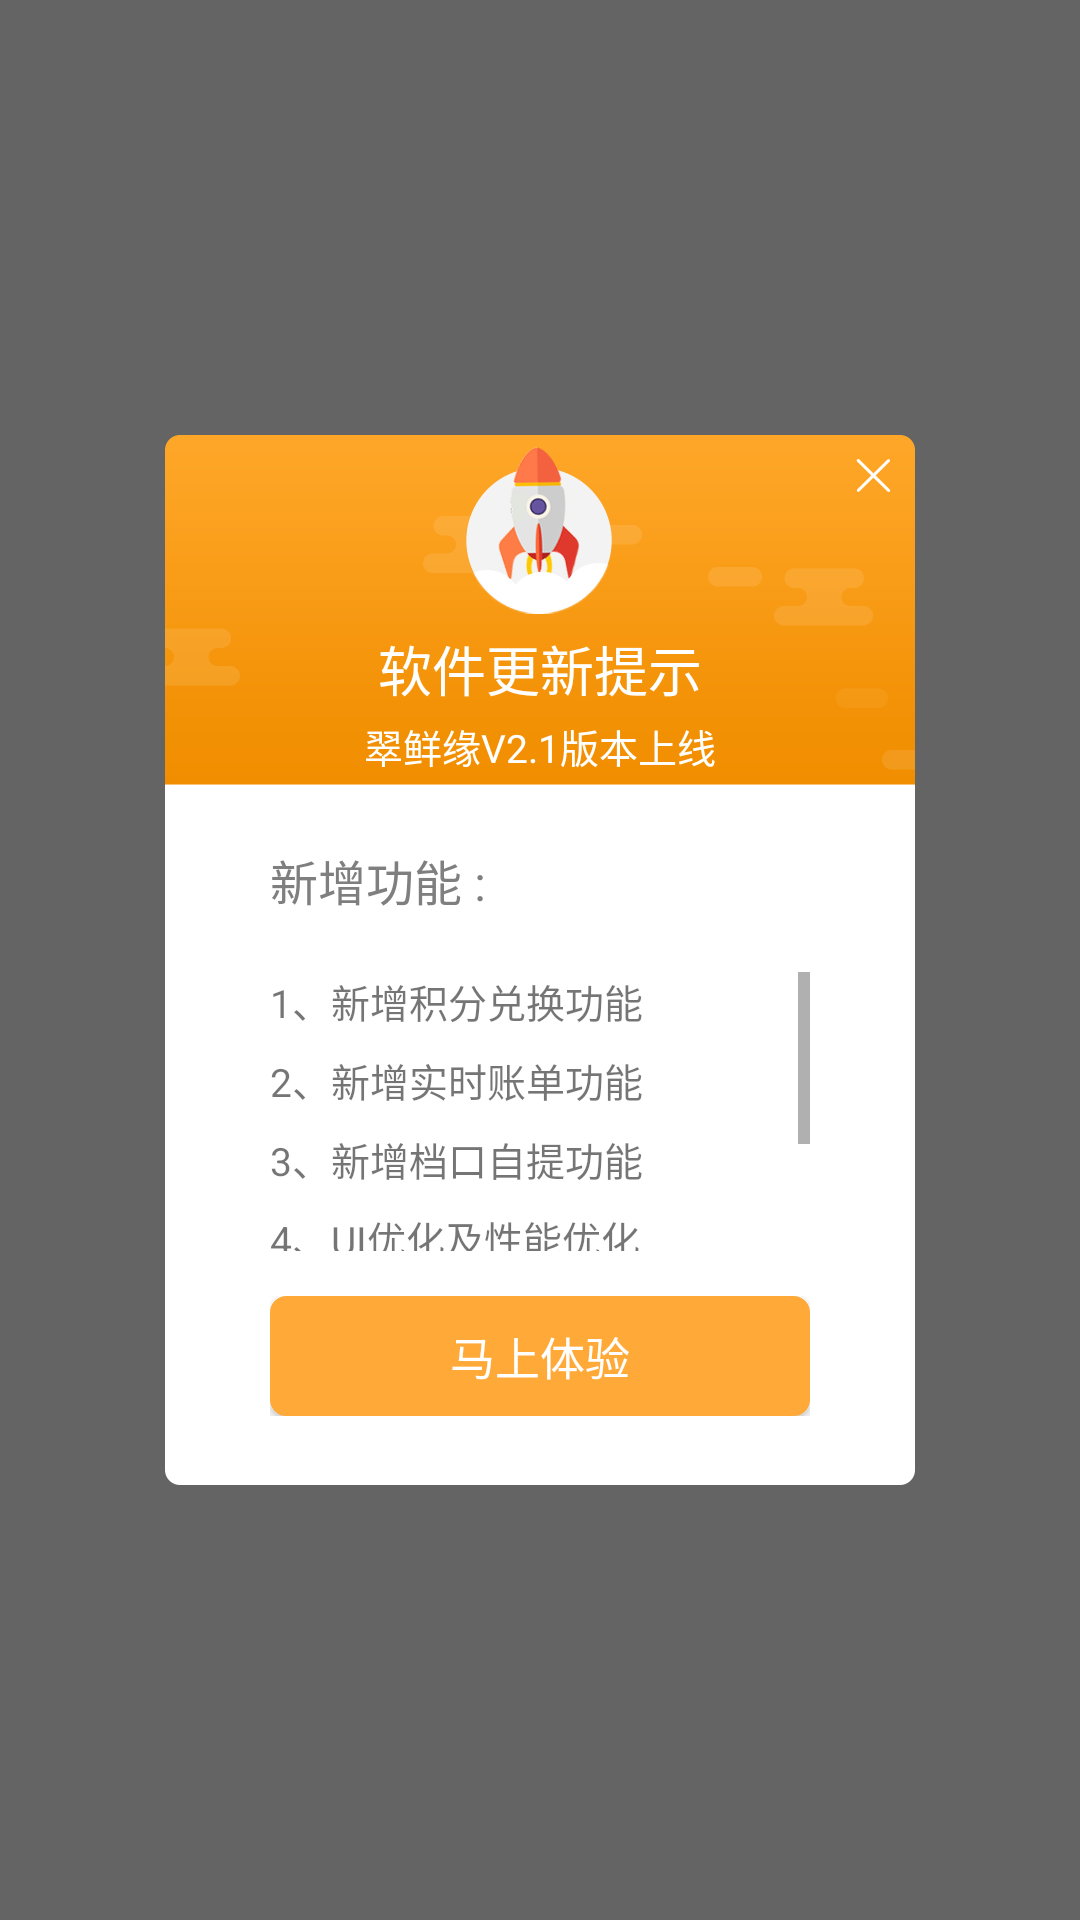

Where icons sit on this 1080*1920 app screen, as (x1, y1, x2, y2):
update close: (856, 459, 891, 492)
update rocket: (466, 447, 612, 614)
